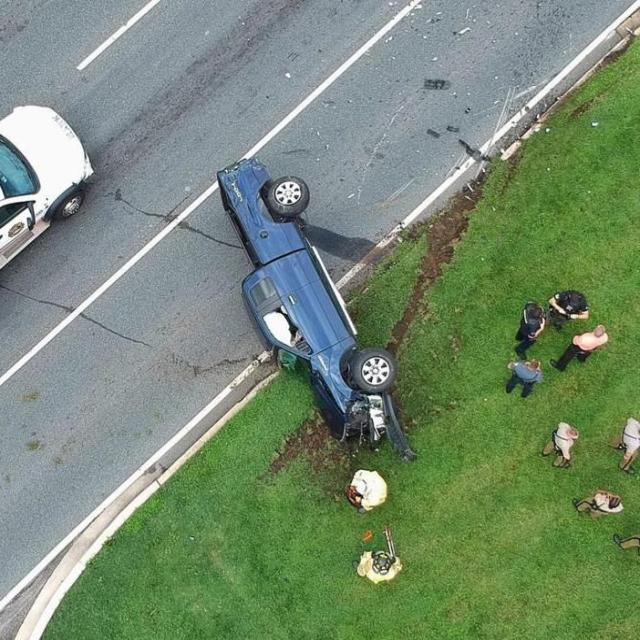traffic_incident: (176, 133, 444, 460)
